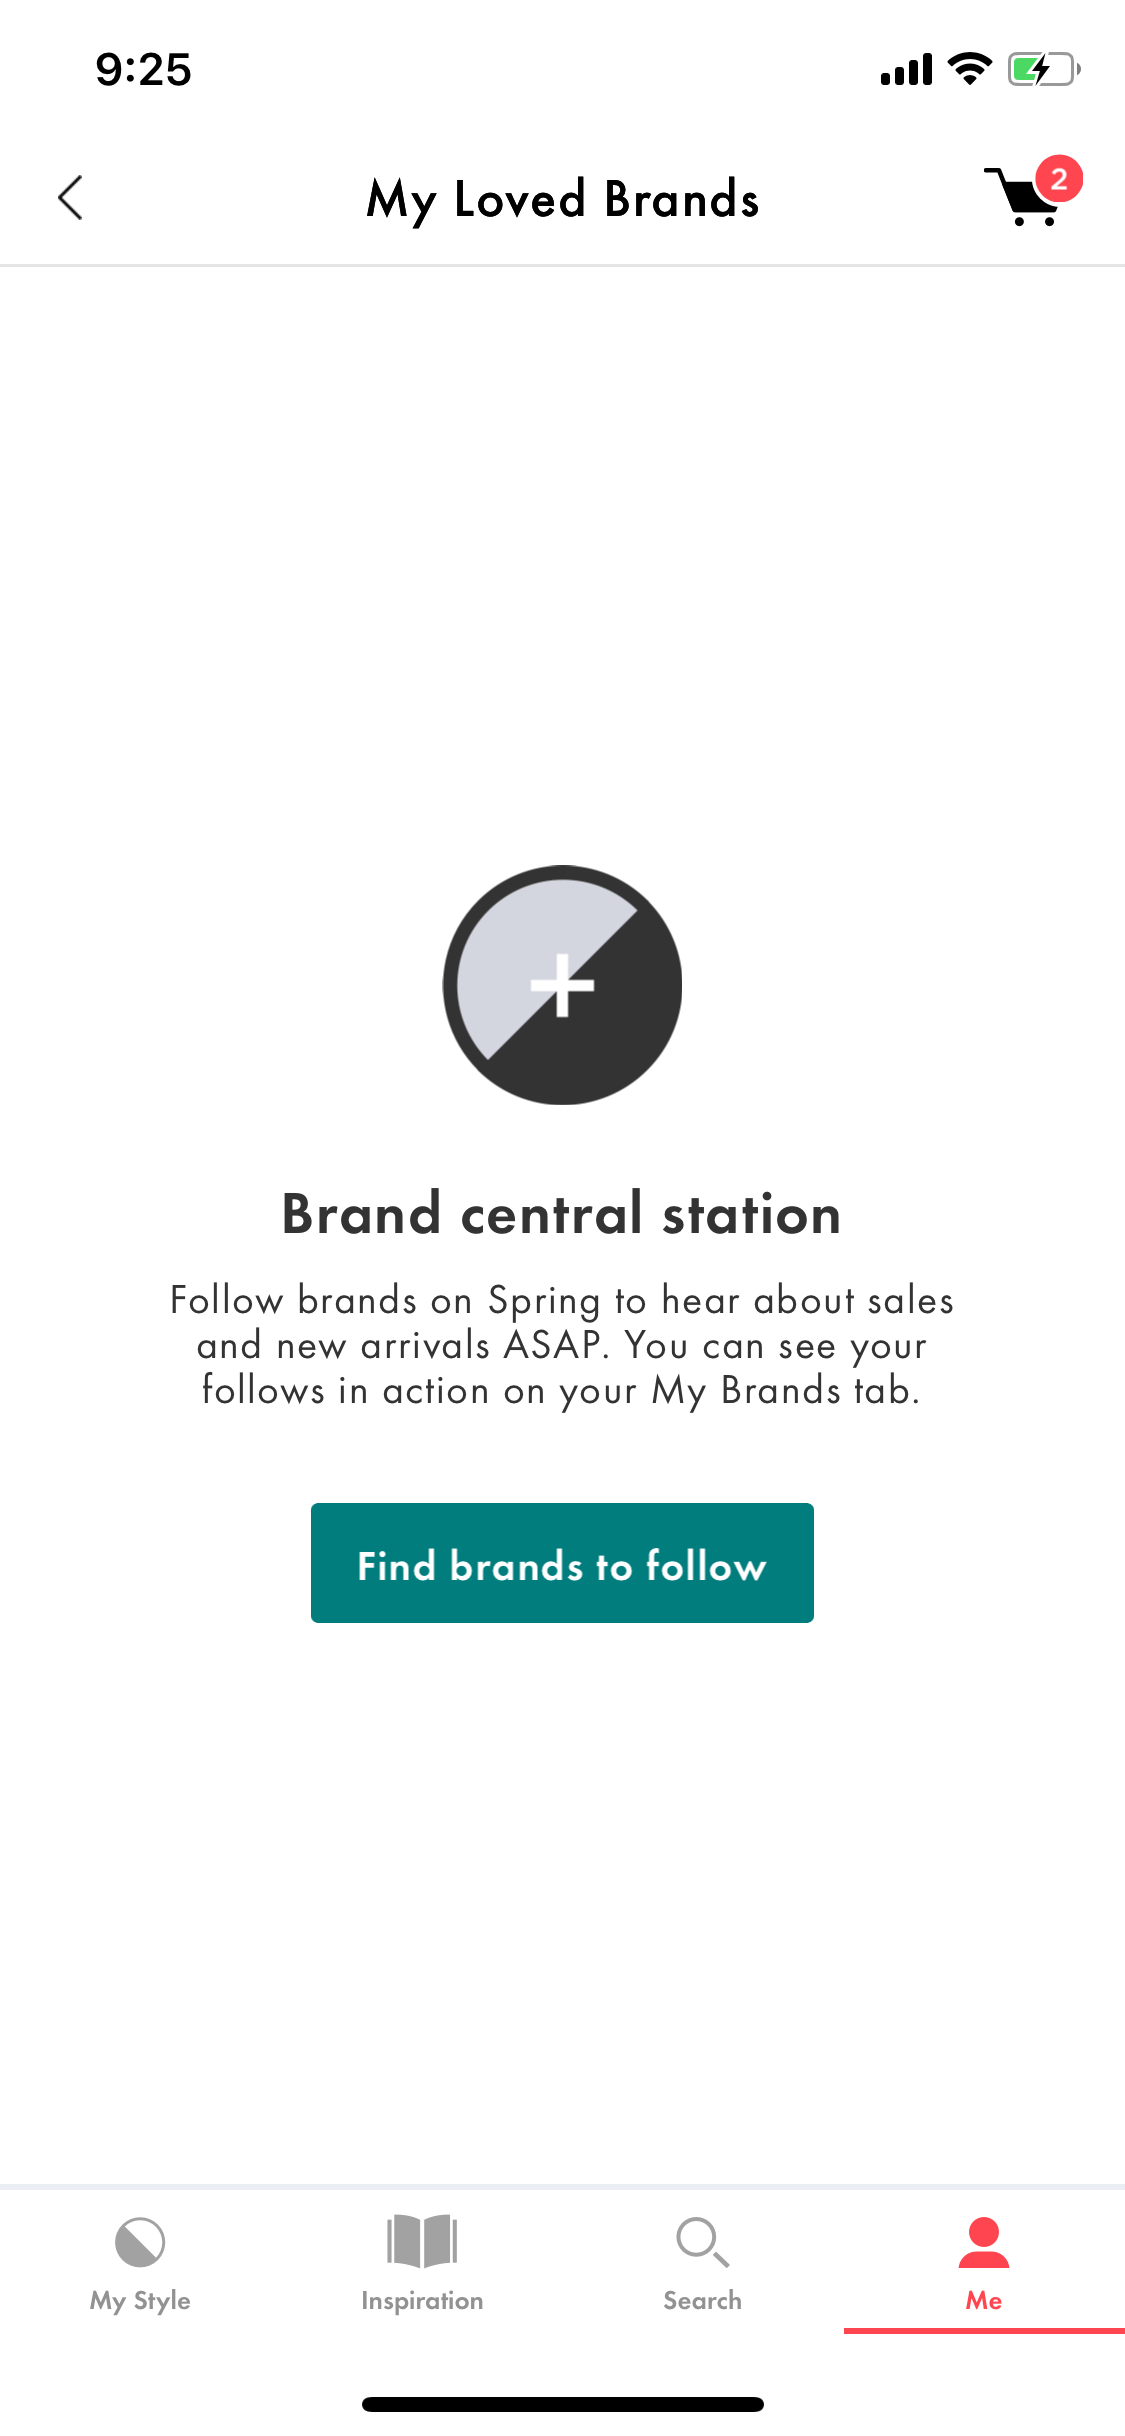Buttons: (300, 1485, 828, 1637), (967, 129, 1092, 253), (20, 130, 134, 253)
